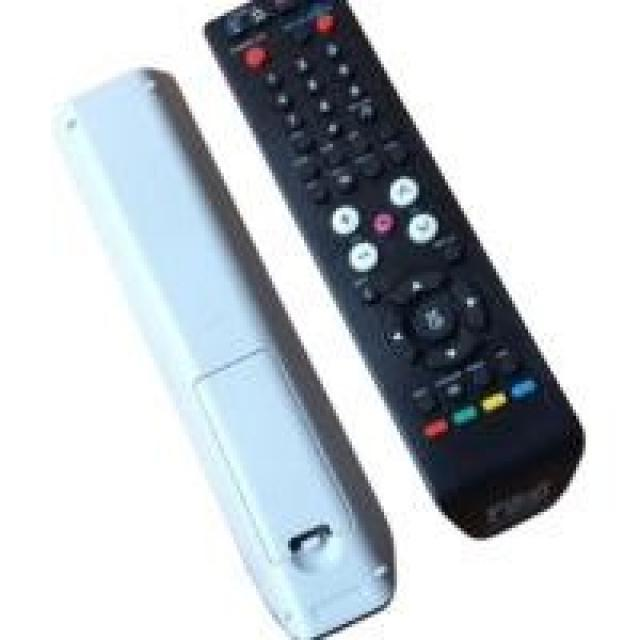remote: (40, 65, 397, 640), (207, 7, 587, 542)
